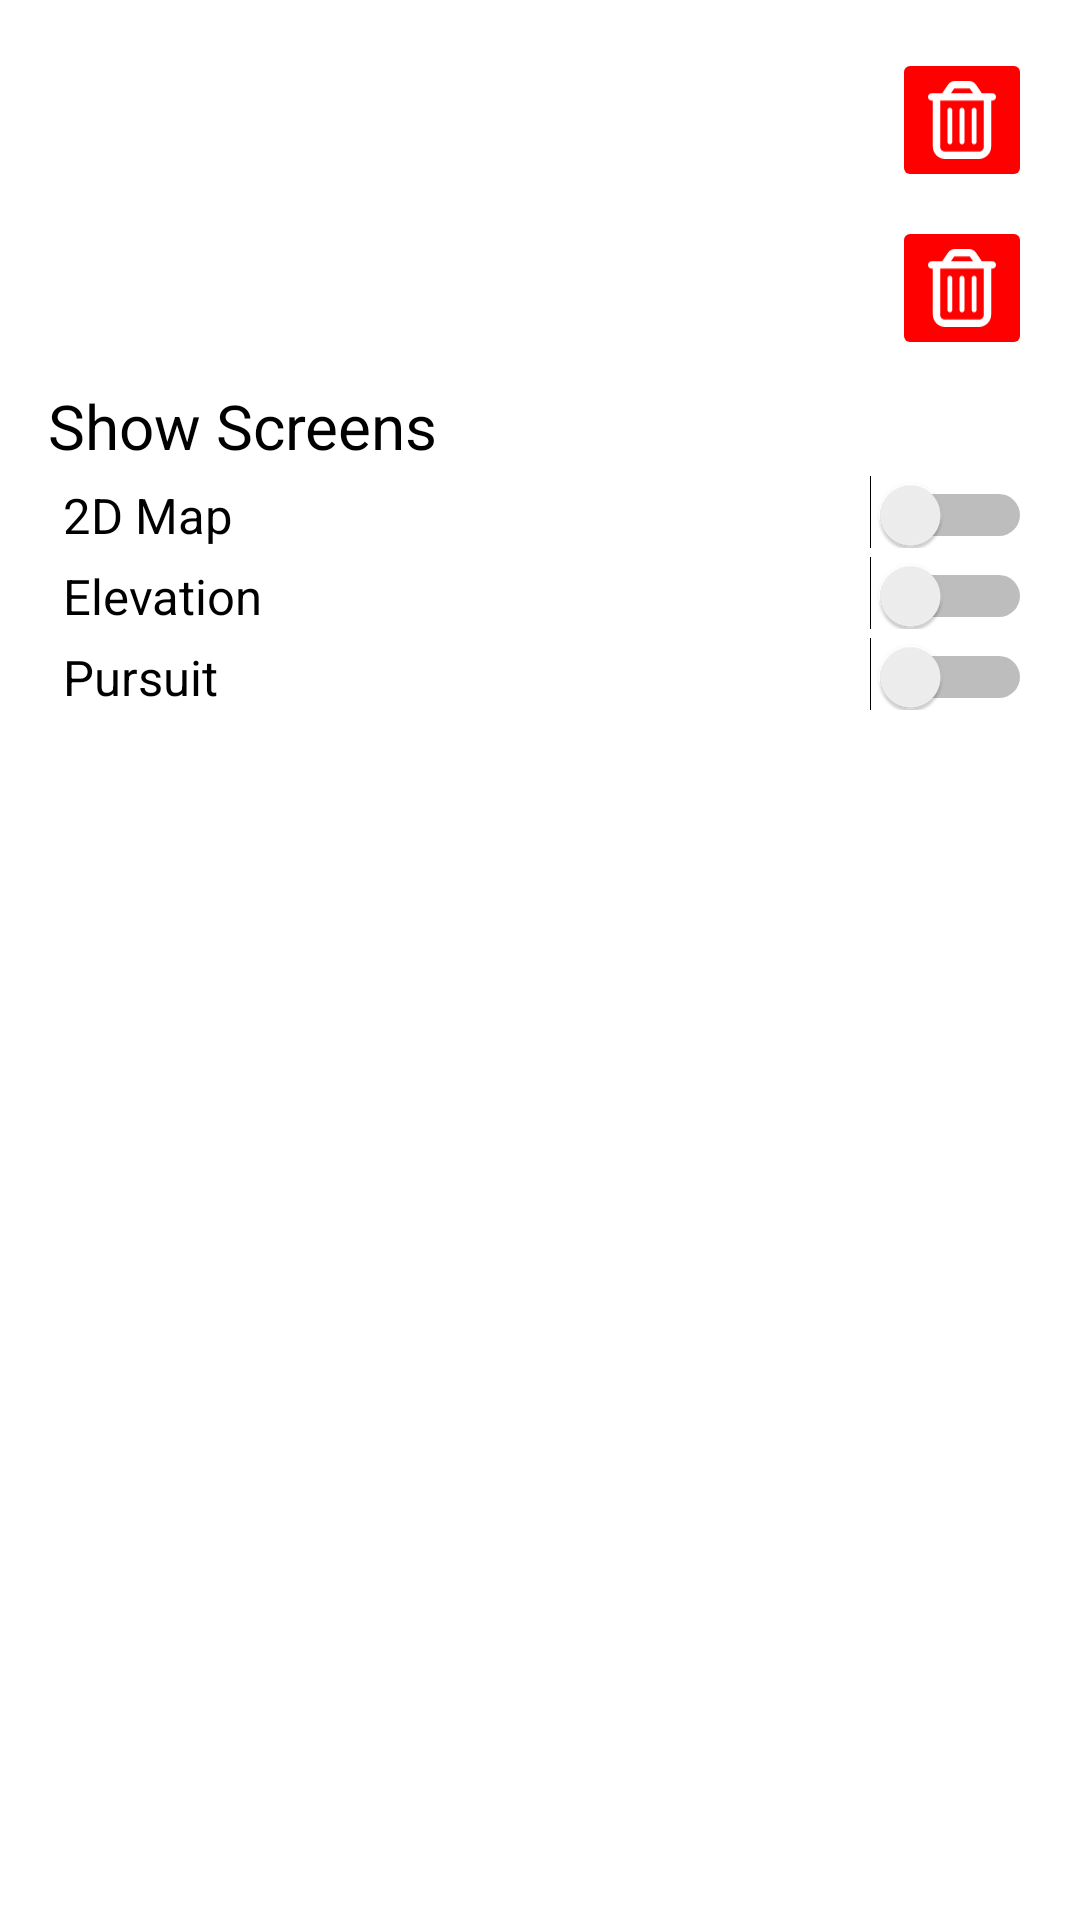

Icons on this 1080px×1920px Android screen, each with its box as (x1, y1, x2, y2):
trash can: (904, 66, 1020, 174), (904, 234, 1020, 342)
